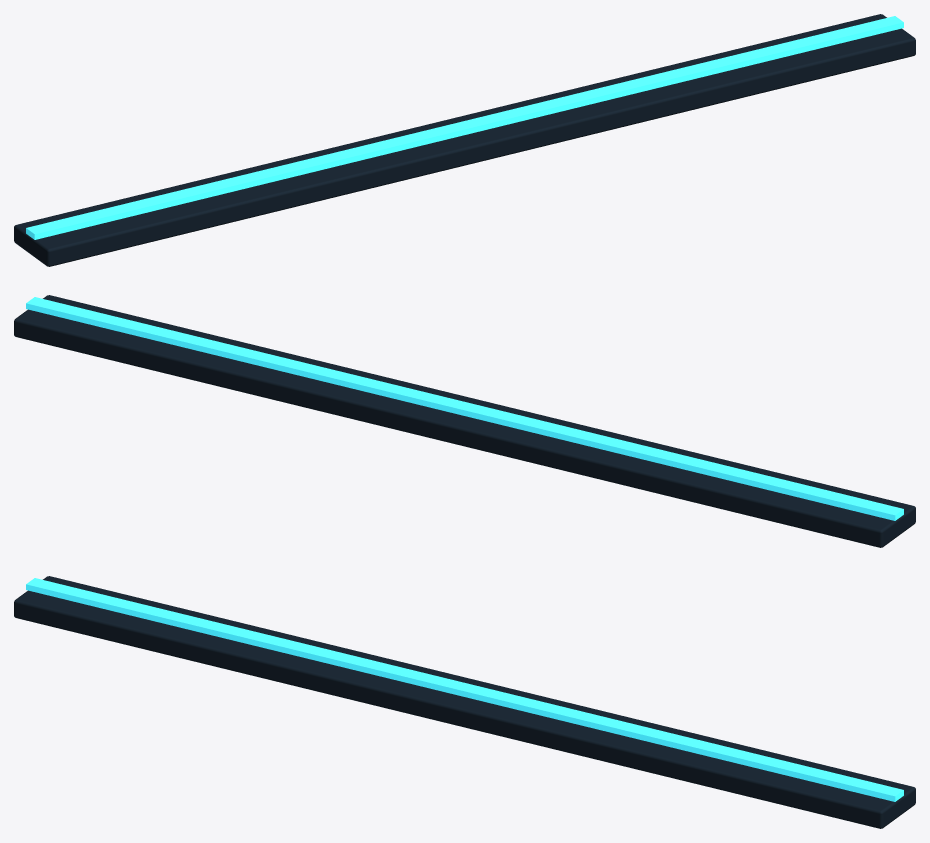
Rendered from data-rail.glb.
3 views of the same model, one above another, from view 1: azimuth 30°, elevation 25°; view 2: azimuth 150°, elevation 25°; view 3: azimuth 330°, elevation 25° (orthographic).
Parts seen in each view (by area): view 1: rail, signal; view 2: rail, signal; view 3: rail, signal.
Part boxes in pixels (left/top/right/bottom): rail: left=14, top=14, right=915, bottom=266; signal: left=26, top=16, right=903, bottom=239; rail: left=14, top=295, right=915, bottom=547; signal: left=26, top=297, right=903, bottom=520; rail: left=14, top=576, right=915, bottom=828; signal: left=26, top=578, right=903, bottom=801.
Bounding box in the file's own units: 4 × 0.1075 × 0.28.
